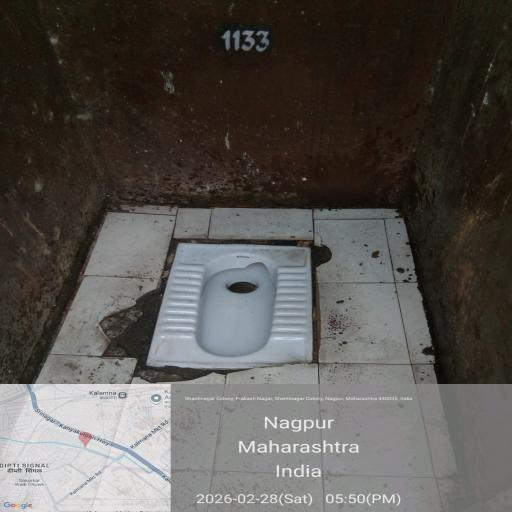damage: (114, 188, 366, 386)
partial_dirty_floor: (0, 0, 467, 229), (0, 348, 475, 512)
